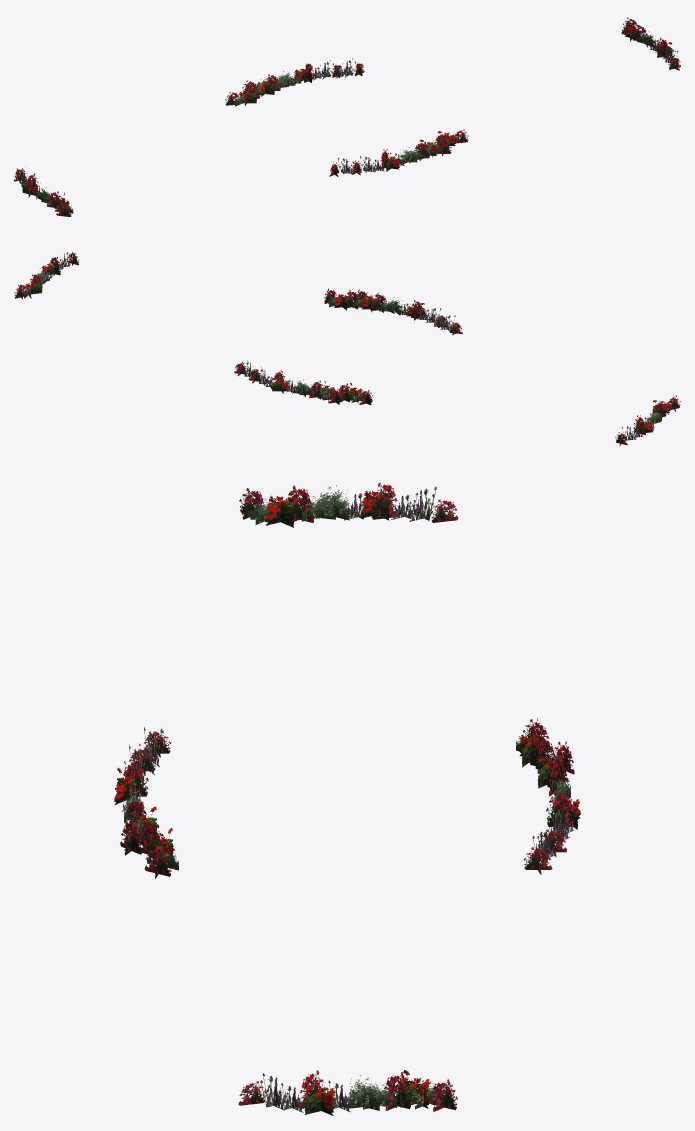
File: bush01_lvs.obj
3 renders of one model, top to bottom at view 1: azimuth 30°, elevation 25°; view 2: azimuth 150°, elevation 25°; view 3: azimuth 270°, elevation 25°, orthographic. The views are drawn at different scales.
Parts seen in each view (by area): view 1: bush01_lvs; view 2: bush01_lvs; view 3: bush01_lvs.
Boxes of the visible parts, <box> form: bush01_lvs: <box>14,17,680,216</box>; bush01_lvs: <box>14,252,680,445</box>; bush01_lvs: <box>114,482,580,1115</box>.
Bounding box in the file's own units: 53.67 × 1.58 × 17.55.
4 materials, 4 textured.
